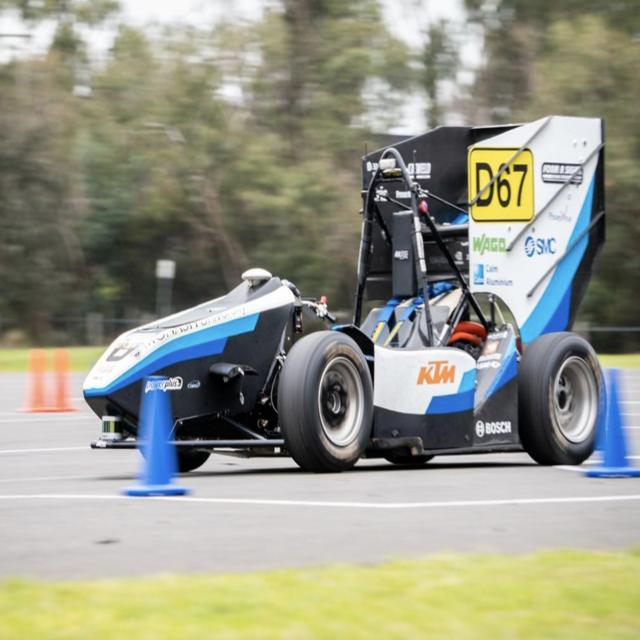blue_cone: (122, 377, 187, 495), (584, 369, 640, 477)
